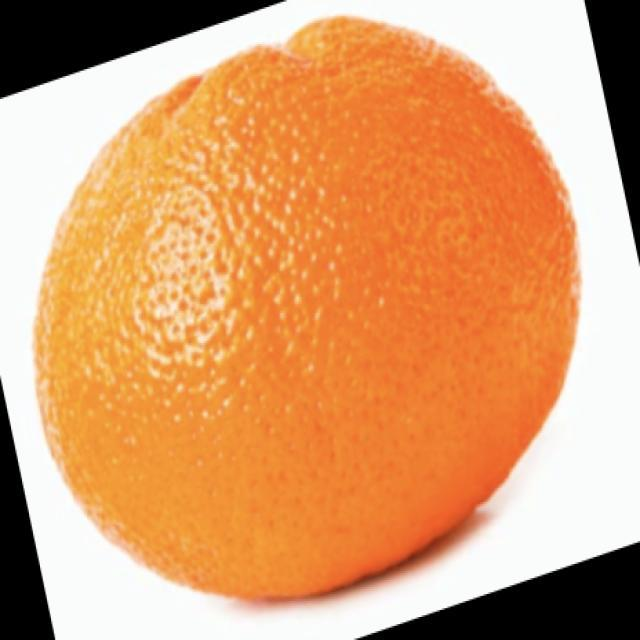matang: (36, 18, 578, 596)
